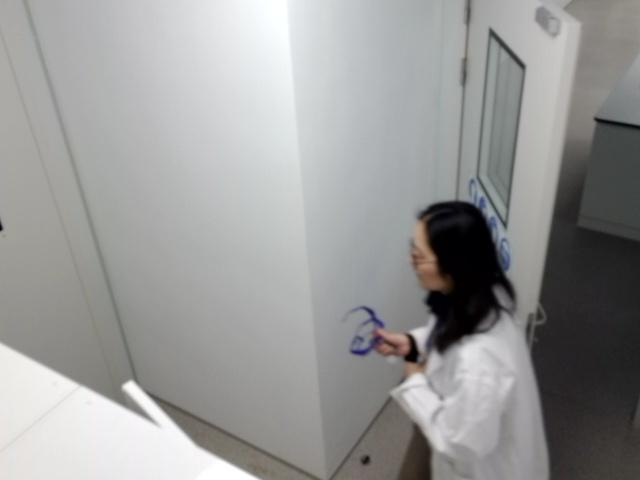Lab_coat: (375, 201, 548, 479)
